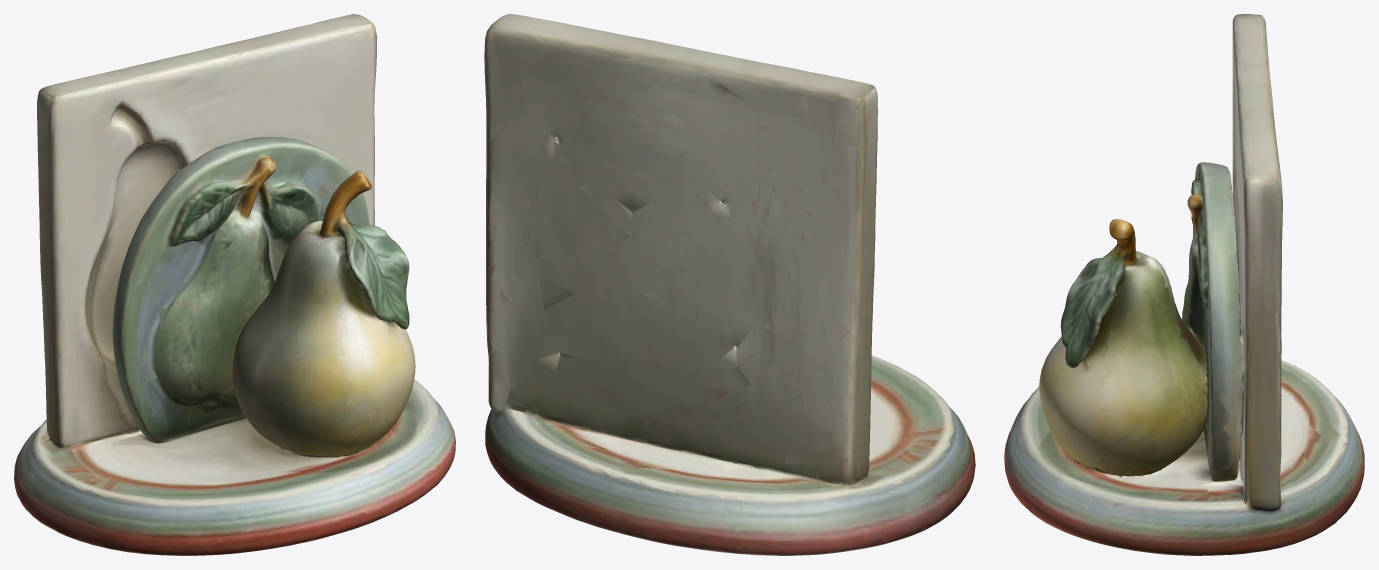
File: sc-relief-pear.glb
The picture shows the model from 3 angles, left to right: view 1: azimuth 30°, elevation 25°; view 2: azimuth 150°, elevation 25°; view 3: azimuth 270°, elevation 25°; orthographic projection. The views are drawn at different scales.
Parts seen in each view (by area): view 1: geometry_0; view 2: geometry_0; view 3: geometry_0.
Part boxes in pixels (box(x1,y1,x2,y2)): geometry_0: box(14, 14, 455, 555); geometry_0: box(484, 14, 975, 555); geometry_0: box(1004, 14, 1364, 555).
Size of the model in its own units: 1 by 0.993 by 0.8274.
Materials: 1 (1 with a texture image).
